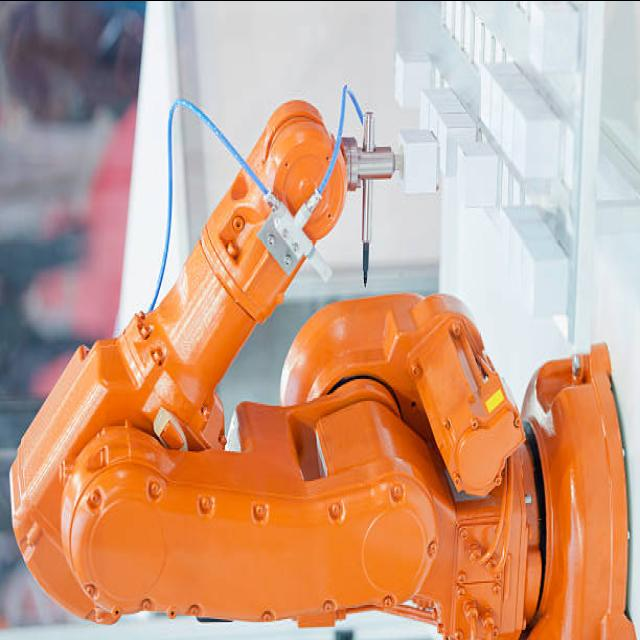Robotic-arm: (6, 100, 640, 630)
